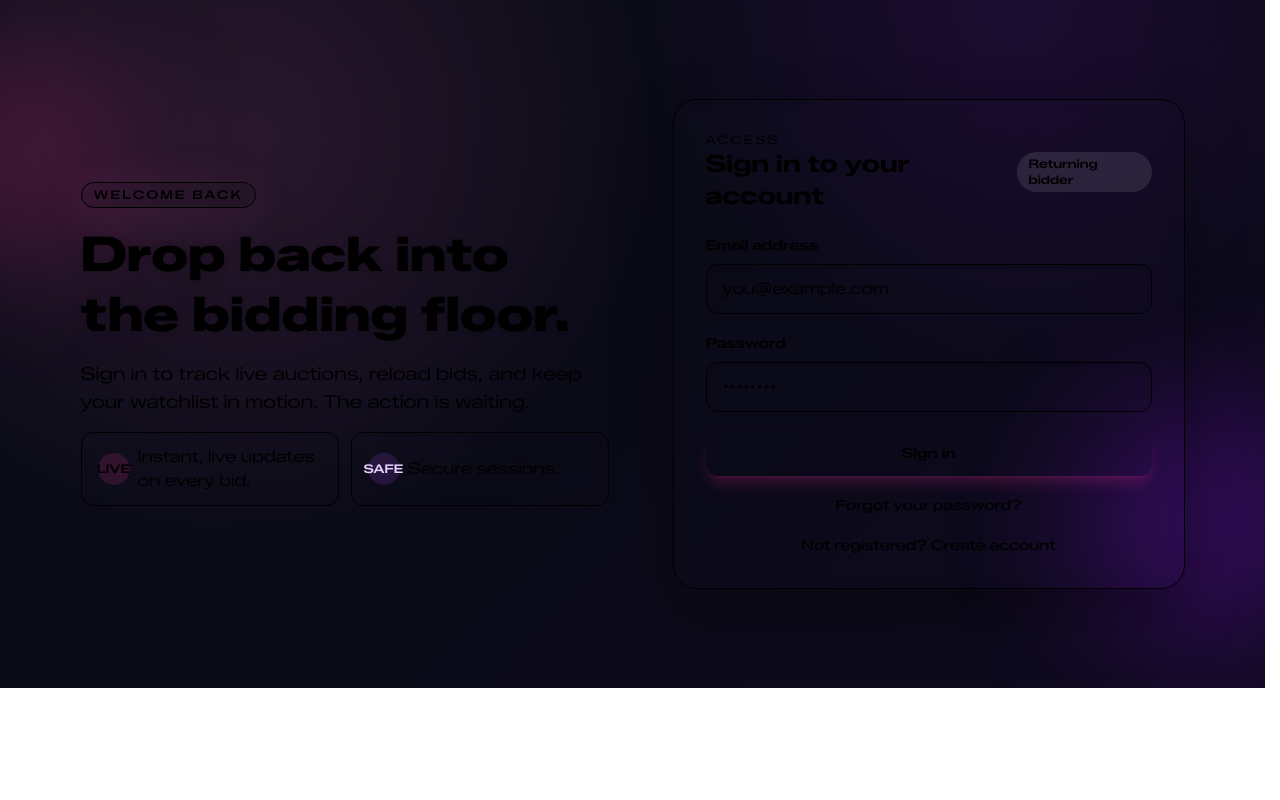
Test: LoginForm › shows cookie guidance when login fails due to csrf invalid_token
The image size is (1280, 800).
Step 1. Type "test@example.com" into the field labelled "Email address" → (928, 289), box [706, 264, 1152, 314]
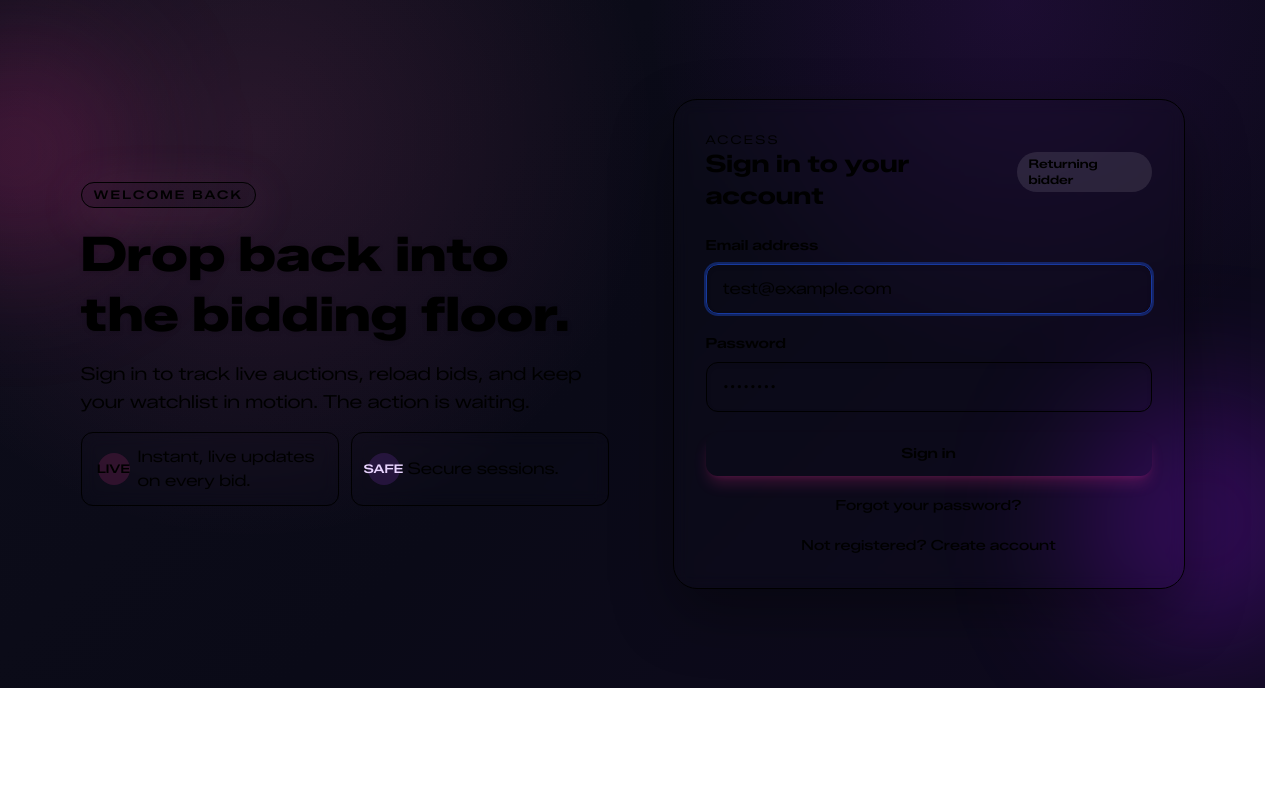
Step 2. Type "password123" into the password field labelled "Password" → (928, 387), box [706, 362, 1152, 412]
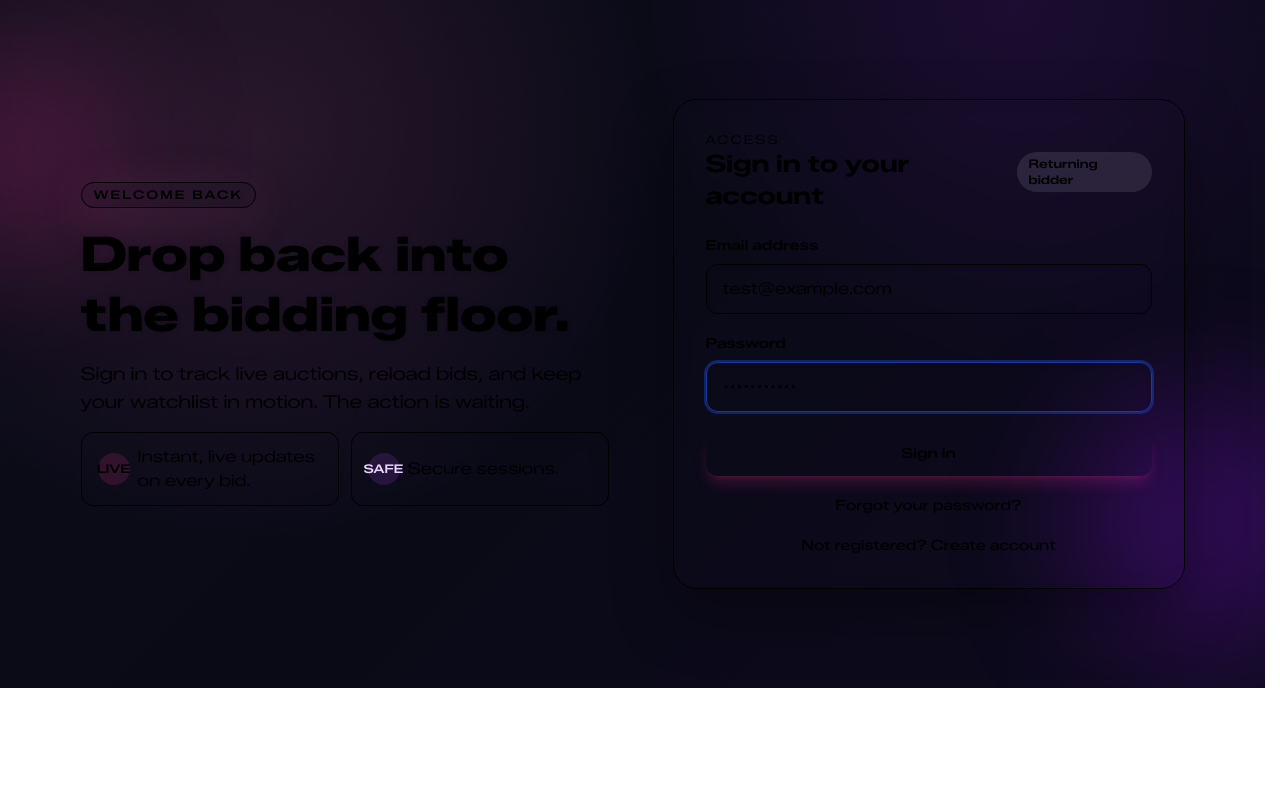
Step 3. Click the button "Sign in" → (928, 454), box [706, 432, 1152, 476]
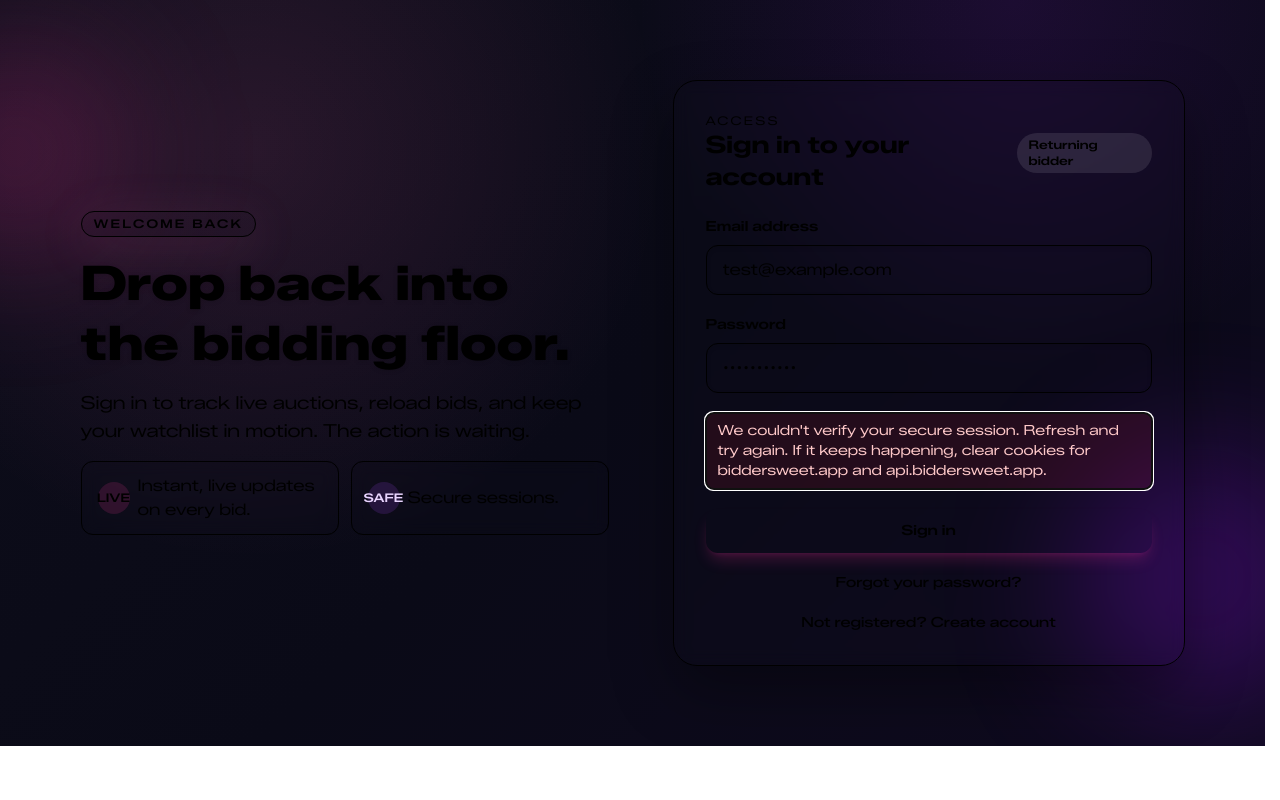
Now the text "clear cookies for biddersweet.app and api.biddersweet.app" is shown, box [718, 422, 1119, 479]
